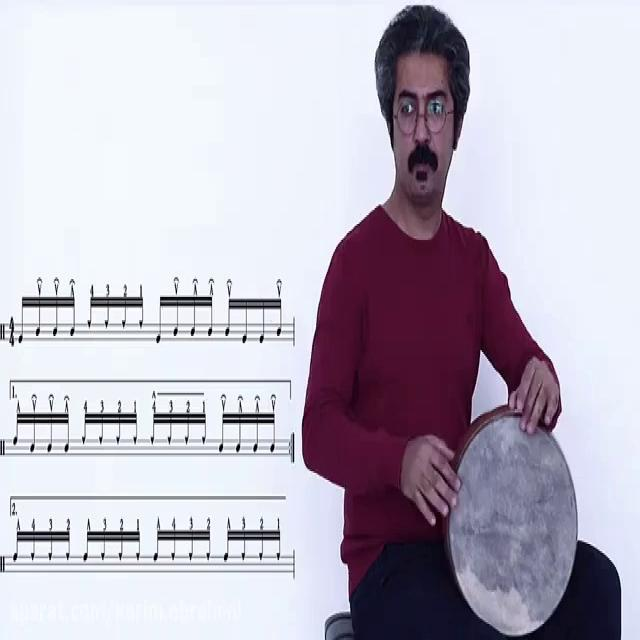Tombak: (441, 409, 582, 638)
